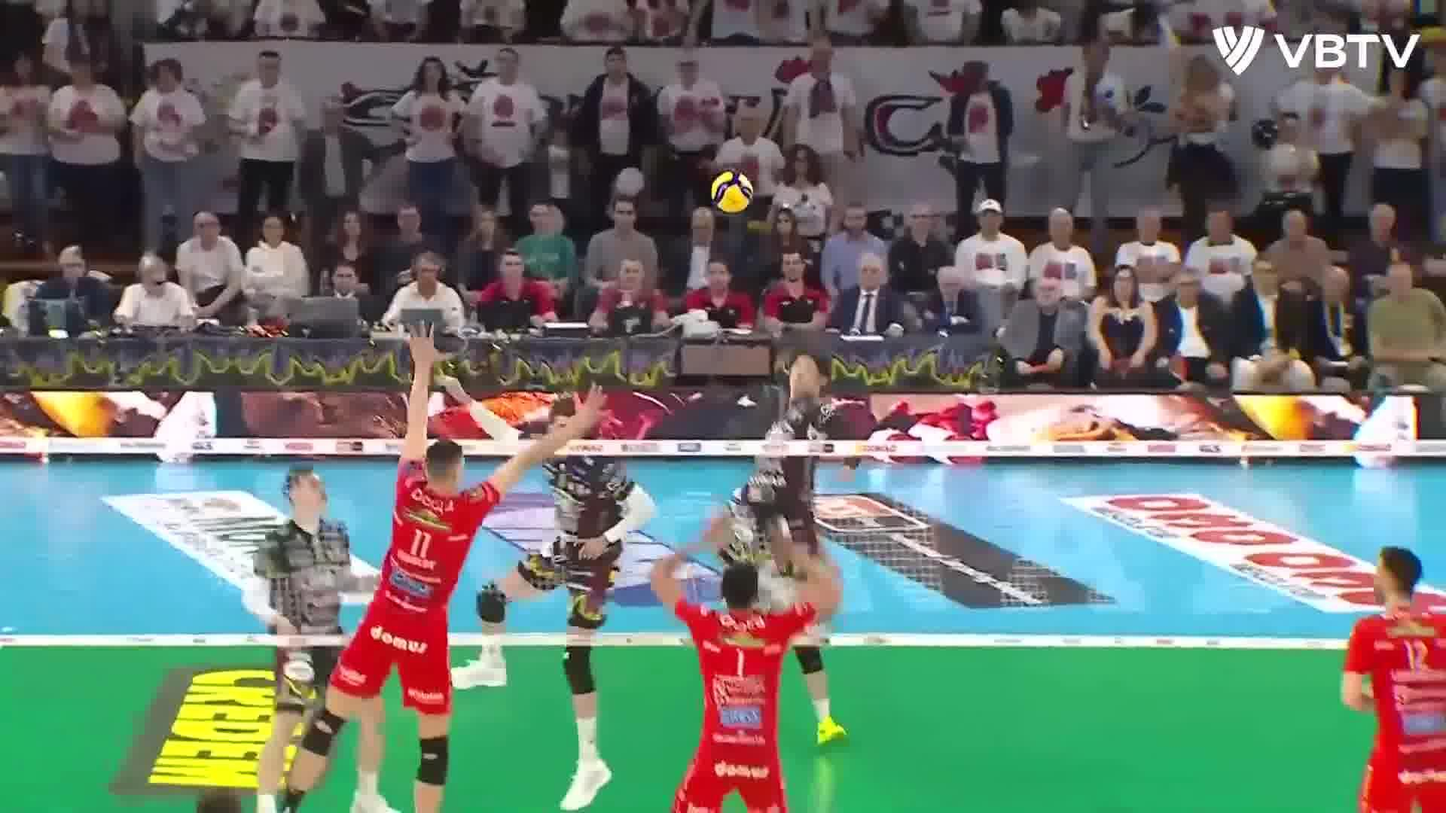balls: (706, 168, 757, 214)
